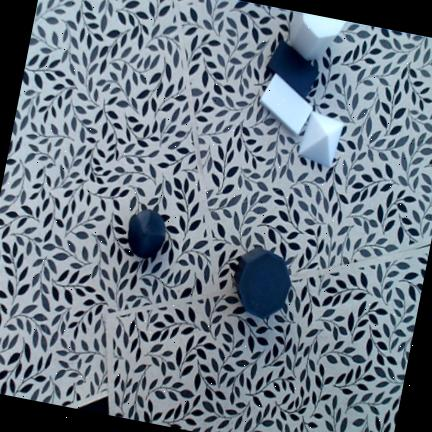Esfera: (128, 210, 165, 259)
Paralelepipedo: (260, 72, 313, 135), (266, 40, 318, 98)
Piramide: (298, 111, 344, 169)
Prisma_hexagonal: (235, 248, 291, 319), (290, 12, 345, 60)
